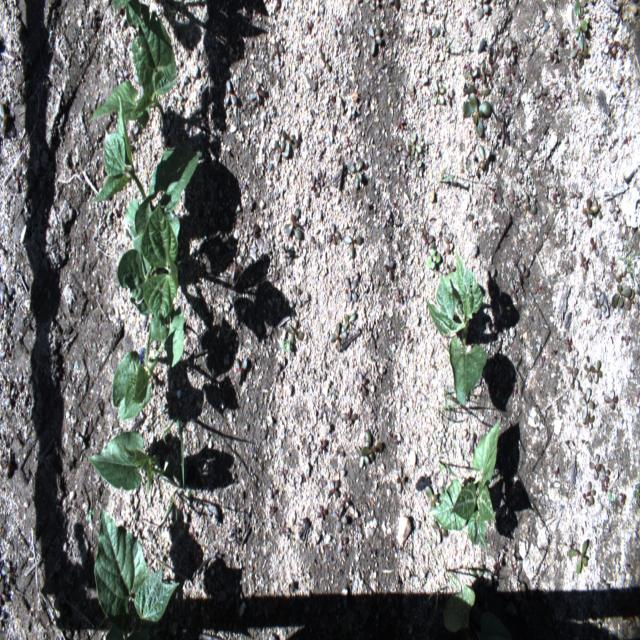crop: (94, 96, 203, 274), (81, 0, 179, 129), (95, 512, 181, 640), (425, 248, 488, 408), (430, 419, 500, 552), (112, 304, 186, 422), (115, 208, 178, 318), (88, 432, 177, 493), (442, 582, 512, 639), (110, 0, 128, 20)
weed: (141, 410, 192, 497), (428, 540, 461, 588), (463, 91, 493, 136), (424, 586, 448, 636), (146, 498, 178, 530), (438, 161, 474, 189), (438, 387, 458, 435), (616, 238, 640, 277), (282, 206, 306, 240), (567, 539, 587, 576), (362, 430, 382, 464), (573, 0, 590, 39), (344, 228, 364, 260), (0, 100, 17, 136), (273, 131, 290, 165), (570, 39, 588, 69), (462, 81, 492, 99), (247, 78, 266, 106), (580, 389, 596, 422), (0, 275, 15, 310), (0, 446, 14, 483), (368, 27, 385, 56), (286, 317, 304, 344), (347, 158, 362, 190), (330, 324, 348, 350), (613, 283, 632, 307), (568, 180, 583, 210), (88, 7, 105, 31), (270, 38, 284, 66), (4, 382, 17, 412), (333, 507, 347, 534), (326, 222, 341, 247), (1, 560, 14, 588), (234, 357, 248, 383), (288, 284, 302, 310), (479, 142, 493, 168), (407, 132, 422, 156), (584, 197, 596, 227), (342, 407, 359, 428), (230, 255, 243, 282), (311, 170, 324, 197), (344, 277, 358, 302), (425, 250, 442, 270), (224, 80, 237, 106), (567, 356, 579, 384), (603, 390, 620, 409), (357, 370, 368, 399), (506, 37, 518, 63), (432, 83, 446, 105), (246, 219, 262, 237), (411, 155, 423, 179), (589, 282, 601, 306), (421, 233, 436, 252), (478, 1, 490, 24), (589, 456, 601, 479), (587, 480, 598, 505), (438, 460, 456, 475), (328, 479, 342, 498), (343, 311, 357, 330), (319, 52, 331, 74), (520, 263, 531, 287), (356, 446, 368, 468), (610, 194, 620, 220), (463, 16, 474, 39), (115, 68, 129, 86), (597, 291, 606, 318), (582, 364, 594, 384), (465, 68, 480, 83), (386, 254, 394, 282), (398, 468, 406, 494), (534, 86, 550, 99), (488, 53, 498, 73), (579, 250, 589, 270), (601, 464, 611, 484), (280, 337, 292, 353), (338, 536, 350, 552), (427, 27, 437, 46), (444, 37, 454, 56), (310, 235, 321, 252), (594, 360, 602, 383), (524, 204, 539, 216), (443, 234, 454, 250), (594, 198, 602, 220), (317, 505, 328, 521), (86, 506, 94, 527), (608, 42, 620, 56), (633, 487, 640, 510), (590, 239, 600, 255), (471, 566, 484, 578), (511, 189, 522, 203), (426, 489, 438, 501), (634, 614, 640, 638), (586, 414, 596, 428), (550, 46, 558, 62), (481, 61, 487, 82), (556, 29, 563, 47), (133, 69, 140, 86), (320, 438, 327, 454), (609, 488, 615, 504), (521, 582, 527, 597), (0, 579, 5, 597)
